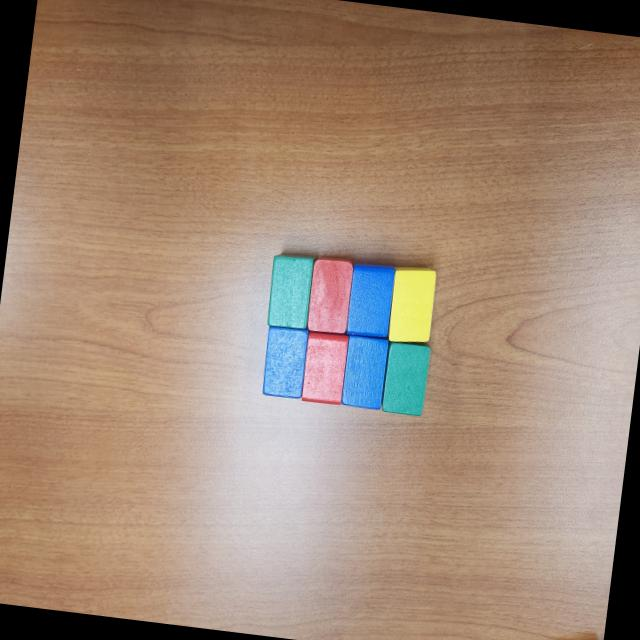blue: (344, 260, 396, 340), (339, 336, 391, 410), (260, 326, 312, 400)
green: (265, 250, 318, 332), (380, 337, 431, 418)
red: (304, 254, 356, 336), (300, 333, 348, 404)
yellow: (384, 262, 438, 346)
